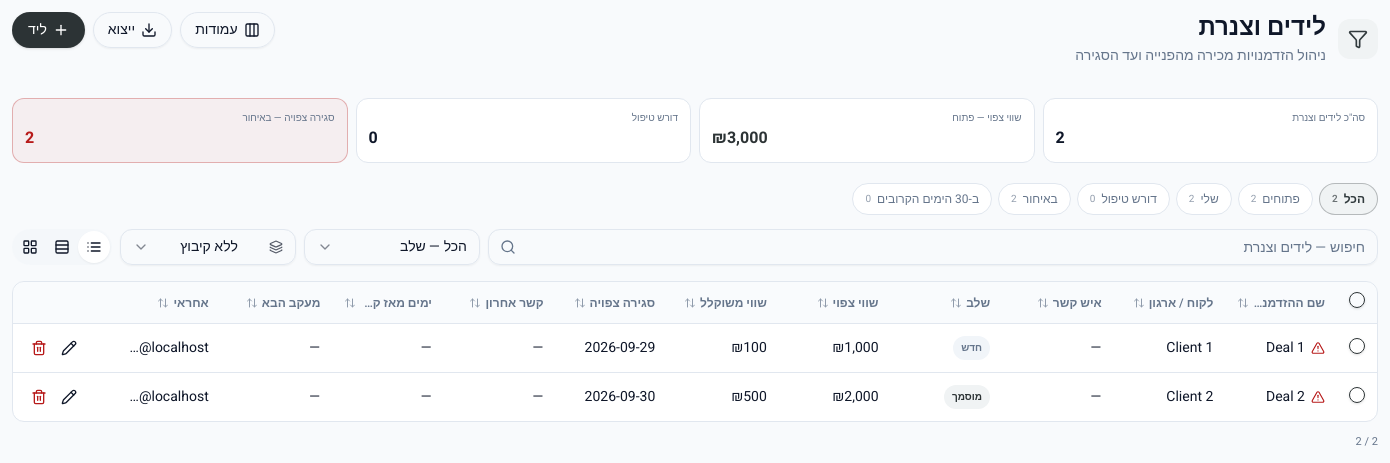
Test case: the view switch › renders cards instead of the table, with the same records
Expected: the text "Deal 1" is shown, x1=1266 y1=338 x2=1305 y2=358
Step 1. Click the button named "תצוגת כרטיסים" → {"x": 62, "y": 247}, box x1=46 y1=231 x2=78 y2=263
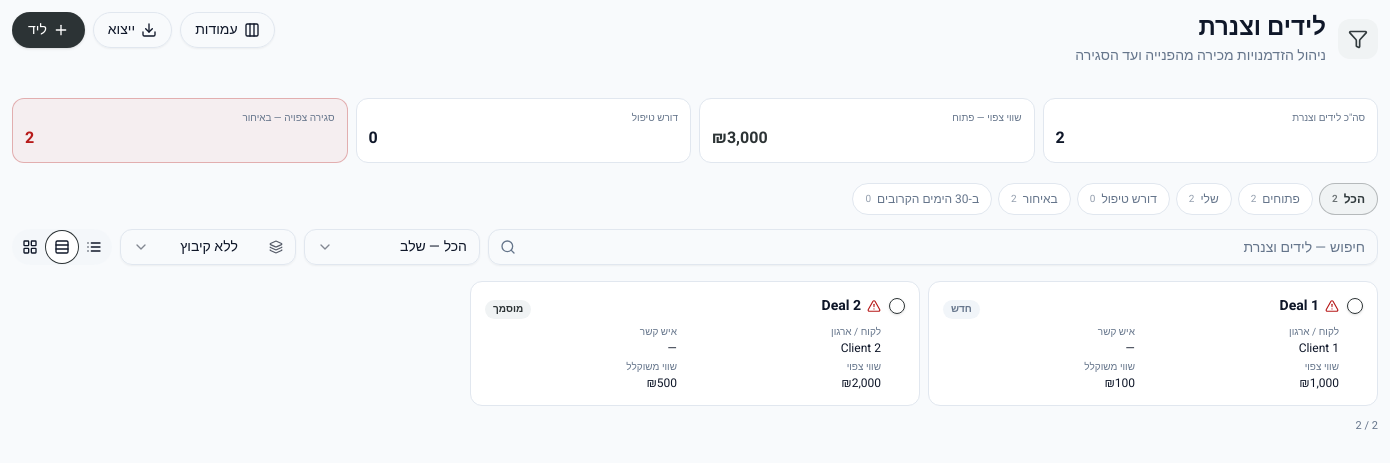
Expected: the text "Deal 1" is shown, x1=1280 y1=295 x2=1319 y2=316
Expected: the table is gone
